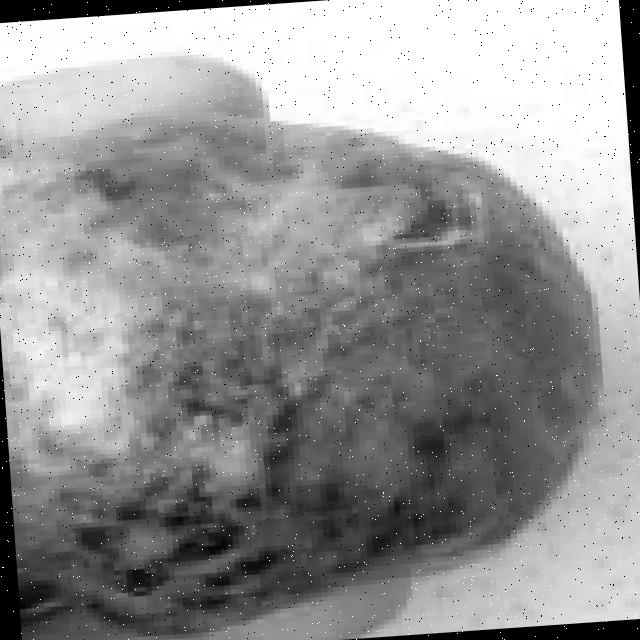Bad_Pomegranate-0-1-day: (0, 106, 609, 640)
